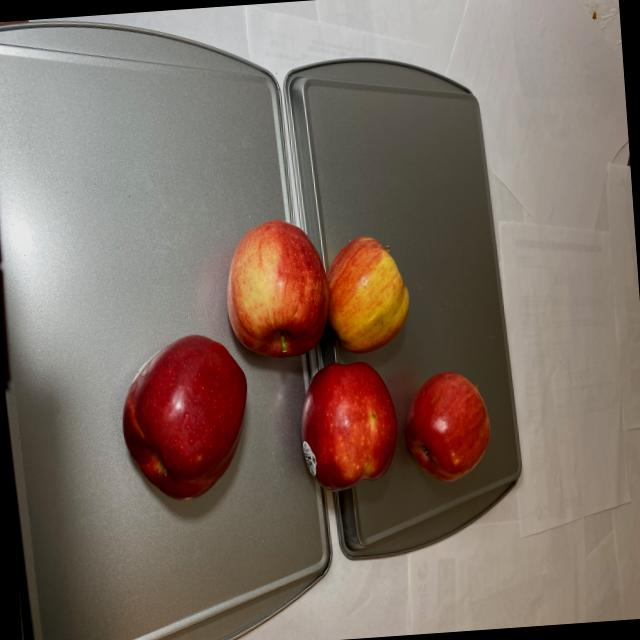apple: (105, 202, 497, 512)
